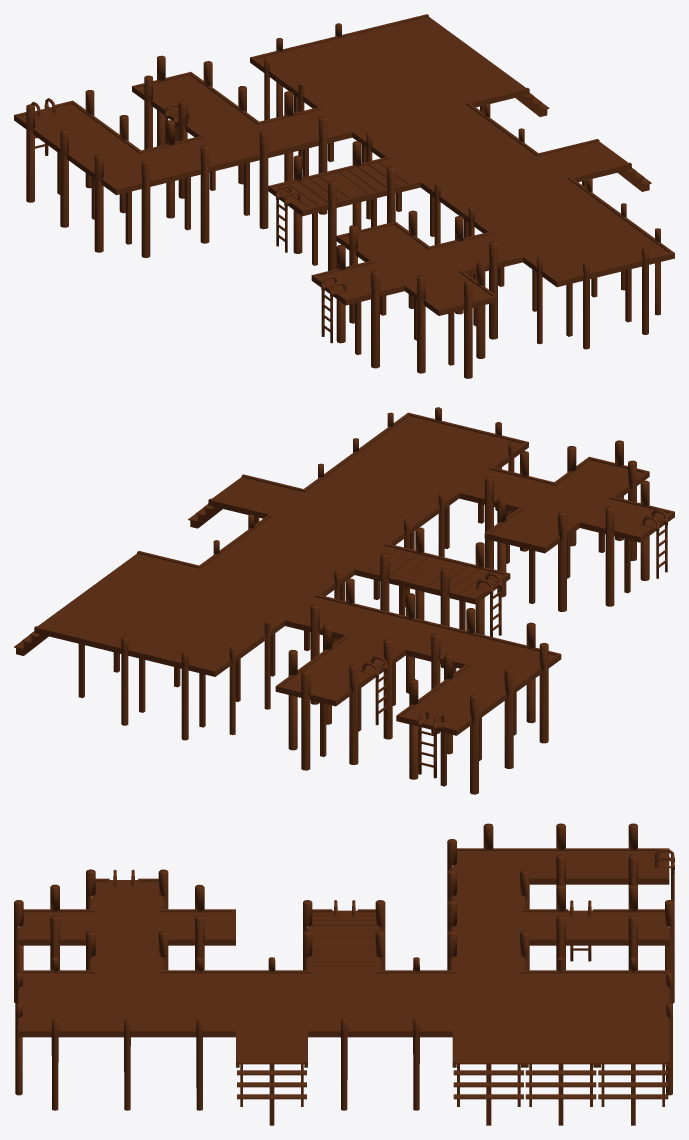
The model's file is dock.obj.
The picture shows the model from 3 angles, top to bottom: view 1: azimuth 30°, elevation 25°; view 2: azimuth 150°, elevation 25°; view 3: azimuth 270°, elevation 25°; orthographic projection. The views are drawn at different scales.
Parts seen in each view (by area): view 1: copy.009, copy.007, dock.020, dock.024, copy.001, dock.007, dock.009, copy.003, copy.000, copy.002, dock.012, dock.026 (+25 smaller); view 2: copy.000, copy.003, copy.007, copy.008, dock.020, dock.004, dock.024, dock.025, copy.002, dock.017, copy.009, dock.003 (+25 smaller); view 3: dock.008, dock.001, dock.002, dock.022, dock.009, copy.000, copy.009, dock.025, copy.003, copy.015, dock.019, copy.012 (+25 smaller).
Part boxes in pixels (<box>): copy.009: <box>404,260,497,378</box>; copy.007: <box>311,245,404,368</box>; dock.020: <box>268,155,361,270</box>; dock.024: <box>82,150,175,257</box>; copy.001: <box>141,120,234,243</box>; dock.007: <box>523,244,615,349</box>; dock.009: <box>582,228,674,334</box>; copy.003: <box>14,90,106,202</box>; copy.000: <box>132,55,224,149</box>; copy.002: <box>48,115,140,227</box>; dock.012: <box>260,91,352,214</box>; dock.026: <box>200,121,293,229</box>; copy.000: <box>275,650,370,770</box>; copy.003: <box>396,679,491,794</box>; copy.007: <box>580,480,674,606</box>; copy.008: <box>484,496,579,611</box>; dock.020: <box>415,542,510,668</box>; dock.004: <box>155,632,250,740</box>; dock.024: <box>466,622,561,743</box>; dock.025: <box>311,624,405,739</box>; copy.002: <box>431,653,526,768</box>; dock.017: <box>354,527,449,620</box>; copy.009: <box>554,440,649,560</box>; dock.003: <box>94,618,189,725</box>; dock.008: <box>452,1031,524,1125</box>; dock.001: <box>525,1033,597,1125</box>; dock.002: <box>597,1031,669,1125</box>; dock.022: <box>236,1031,307,1125</box>; dock.009: <box>15,1001,91,1110</box>; copy.000: <box>597,884,674,1003</box>; copy.009: <box>14,884,91,1002</box>; dock.025: <box>525,884,597,970</box>; copy.003: <box>597,823,674,901</box>; copy.015: <box>91,1002,163,1110</box>; dock.019: <box>380,1002,452,1110</box>; copy.012: <box>308,1002,380,1110</box>.
Size of the model in its own units: 111 by 23.02 by 137.
